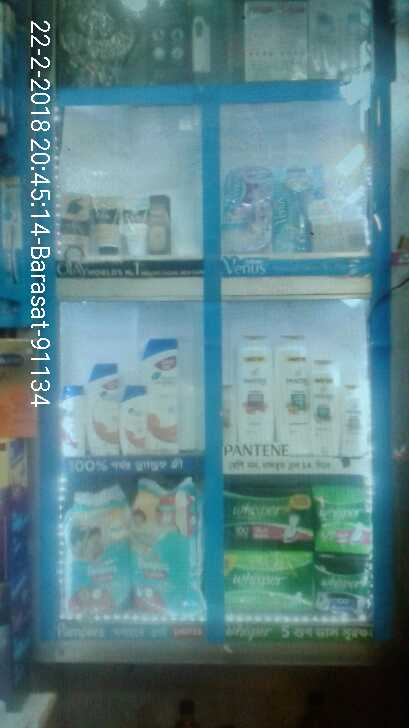venus: (228, 167, 276, 248), (276, 167, 310, 246), (310, 201, 363, 246)
